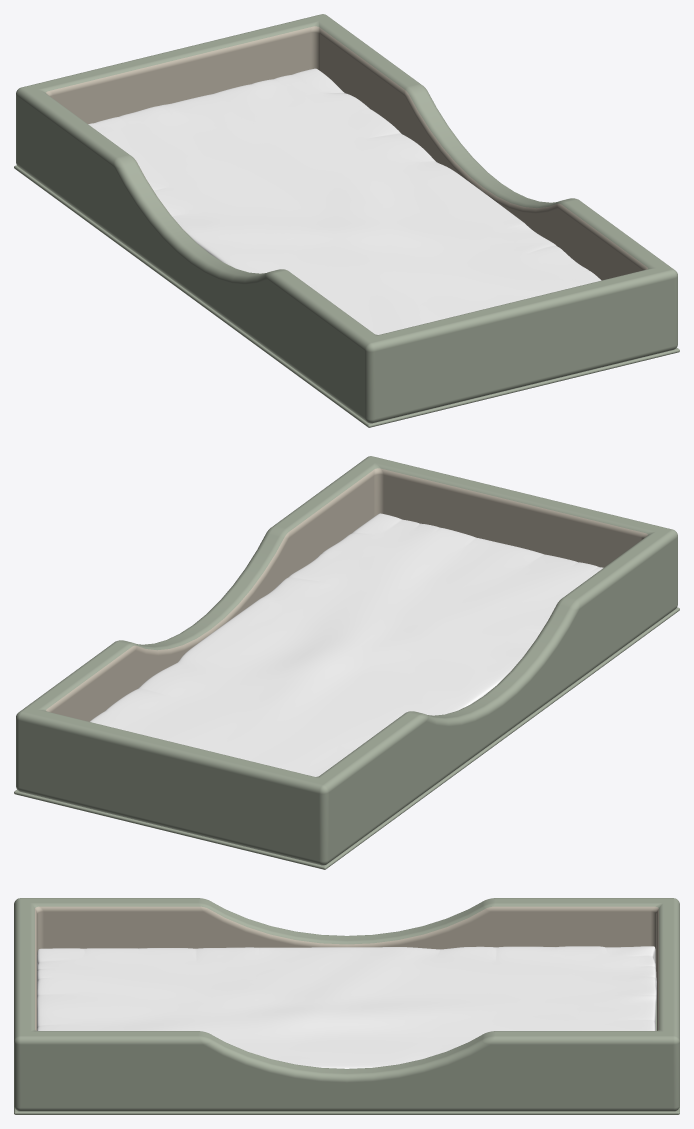
The picture shows the model from 3 angles, top to bottom: view 1: azimuth 30°, elevation 25°; view 2: azimuth 150°, elevation 25°; view 3: azimuth 270°, elevation 25°; orthographic projection. The views are drawn at different scales.
Parts seen in each view (by area): view 1: root; view 2: root; view 3: root.
Boxes of the visible parts, x1,y1,x2,y2 form: root: (14,14,679,427); root: (14,456,679,869); root: (14,898,679,1114).
Bounding box in the file's own units: 1.02 × 0.2555 × 2.01.
